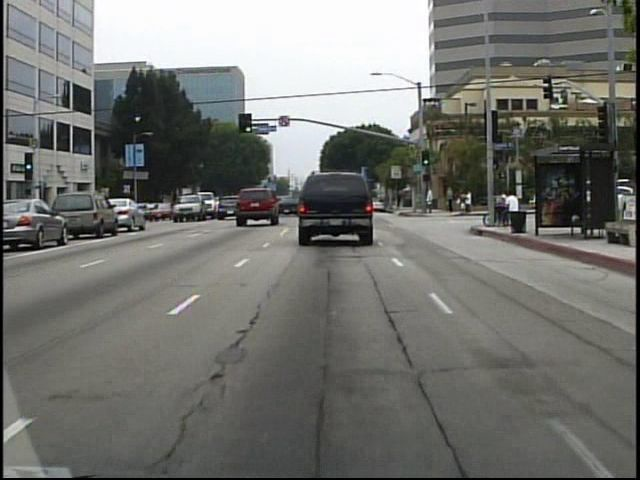person: (424, 184, 438, 218), (445, 181, 458, 216), (393, 186, 404, 212)
